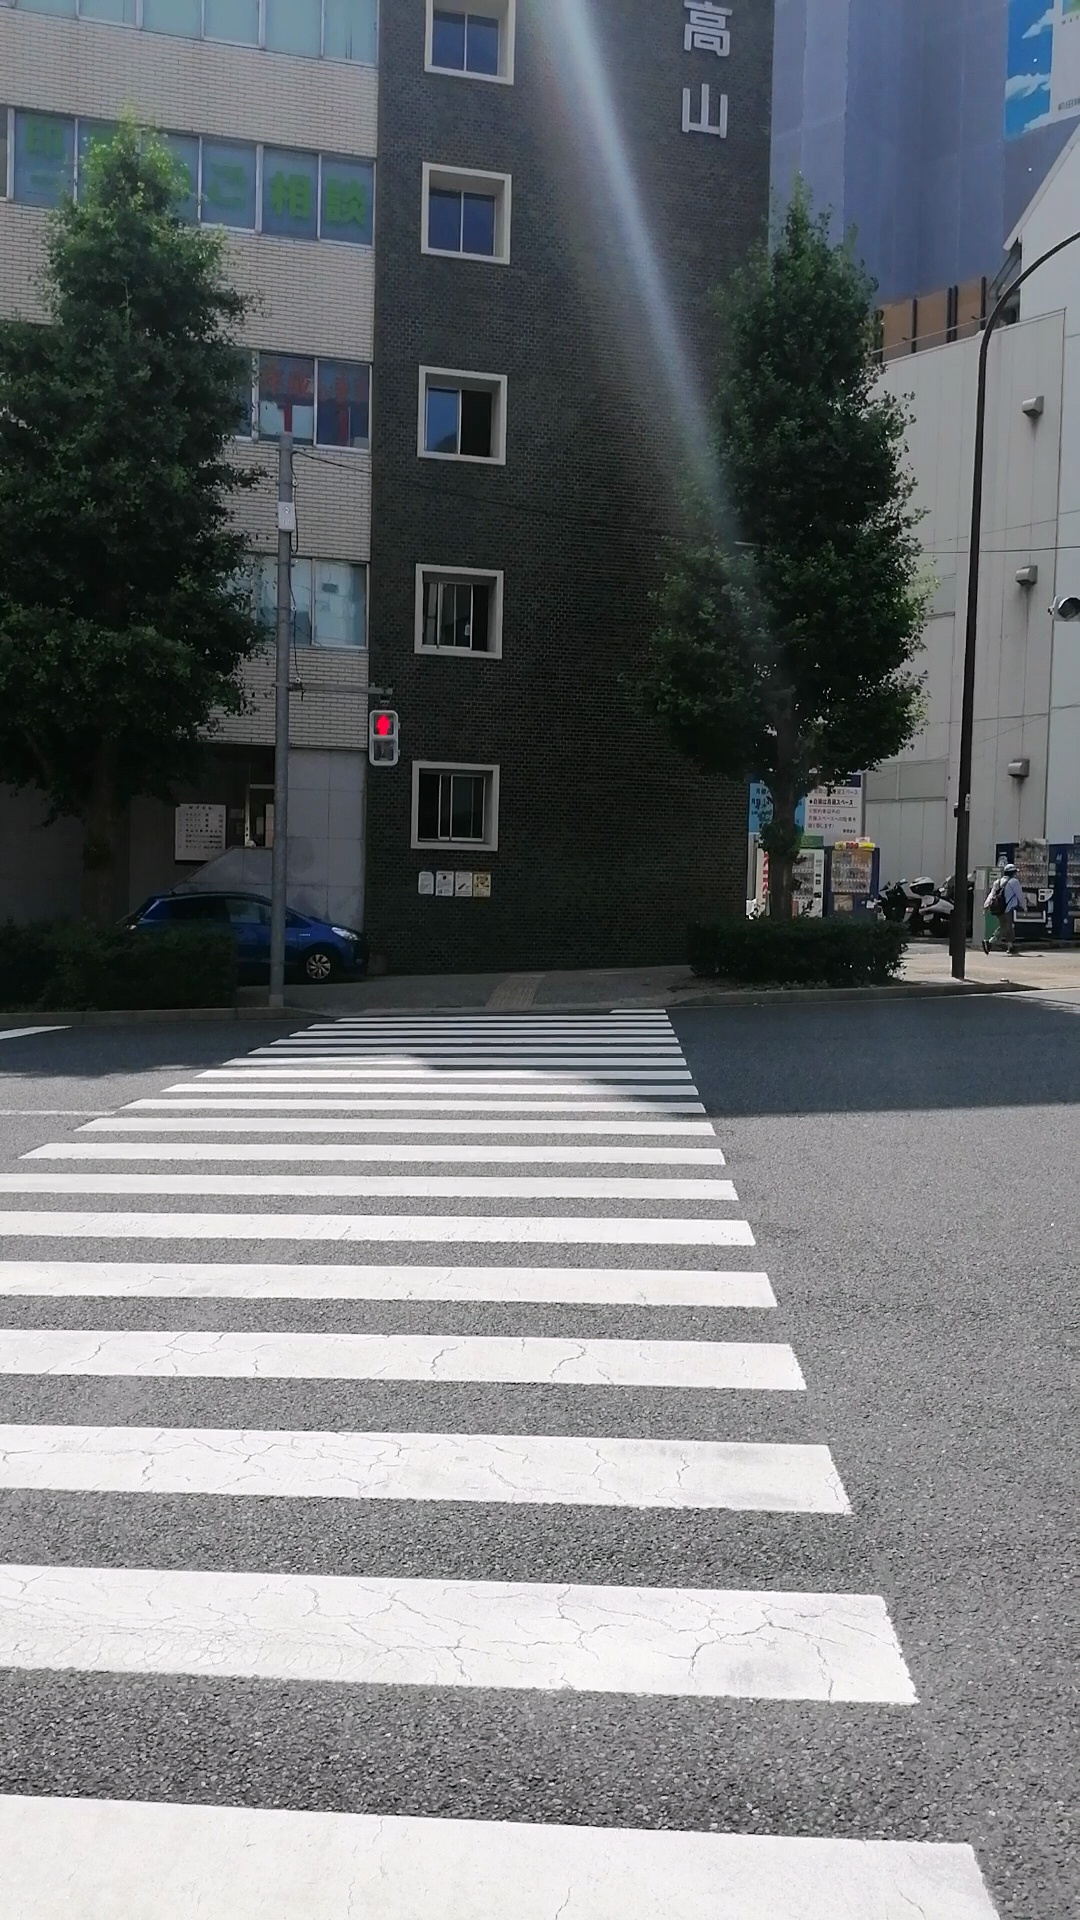red: (368, 709, 400, 766)
